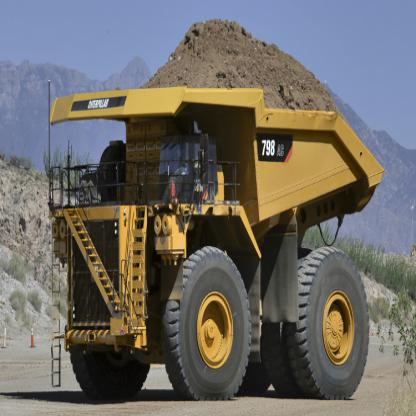dump_truck: (50, 24, 383, 401)
